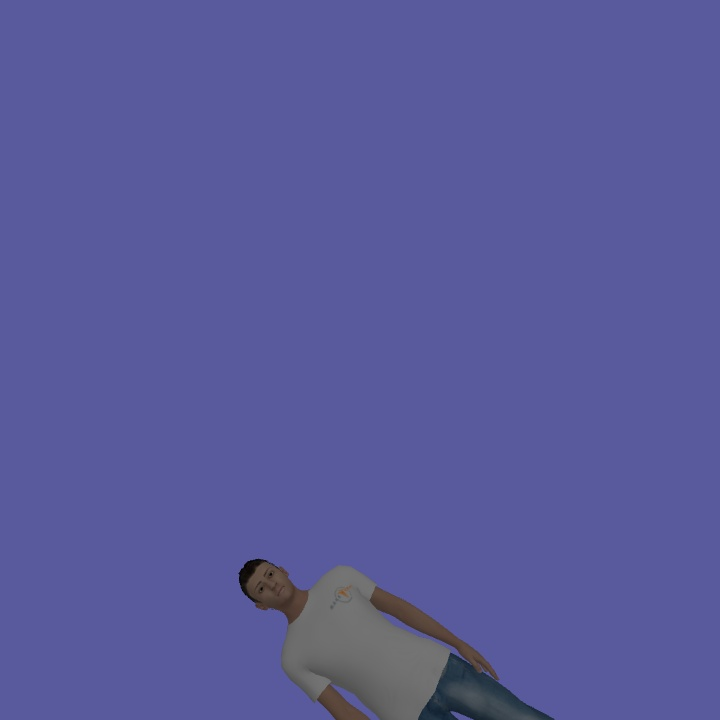victim: (239, 550, 554, 720)
